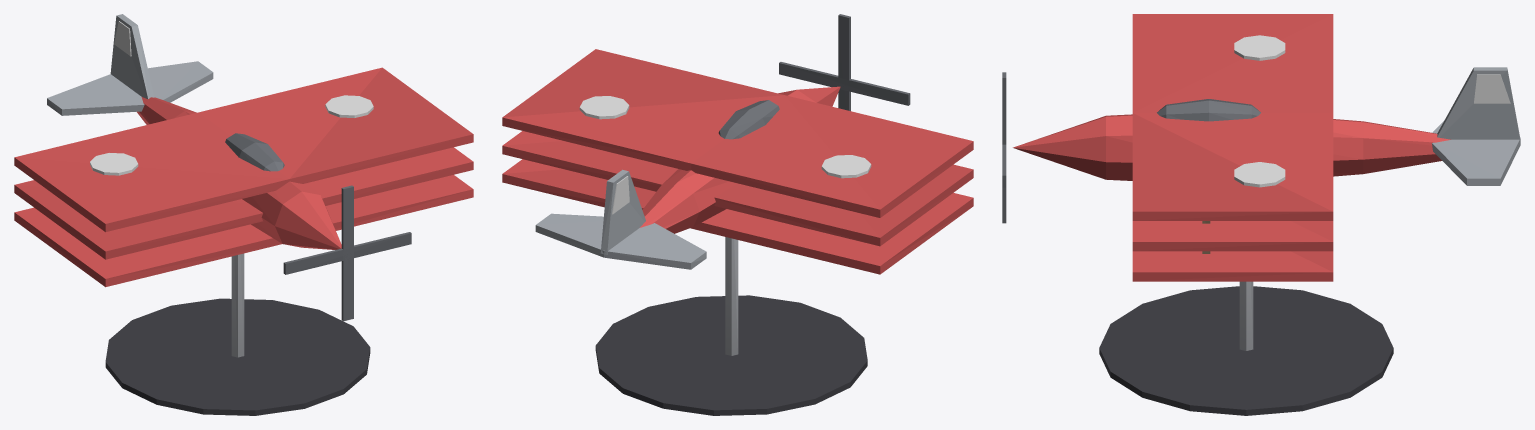
File: Triplane.glb
3 views of the same model, side by side, from view 1: azimuth 30°, elevation 25°; view 2: azimuth 150°, elevation 25°; view 3: azimuth 270°, elevation 25° (orthographic). The views are drawn at different scales.
Visible parts, largest first — view 1: Body; view 2: Body; view 3: Body.
Part boxes in pixels (box(x1,y1,x2,y2)): Body: box(14, 14, 473, 415); Body: box(502, 14, 973, 415); Body: box(1002, 14, 1520, 415).
Size of the model in its own units: 0.7 by 0.47 by 0.775.
